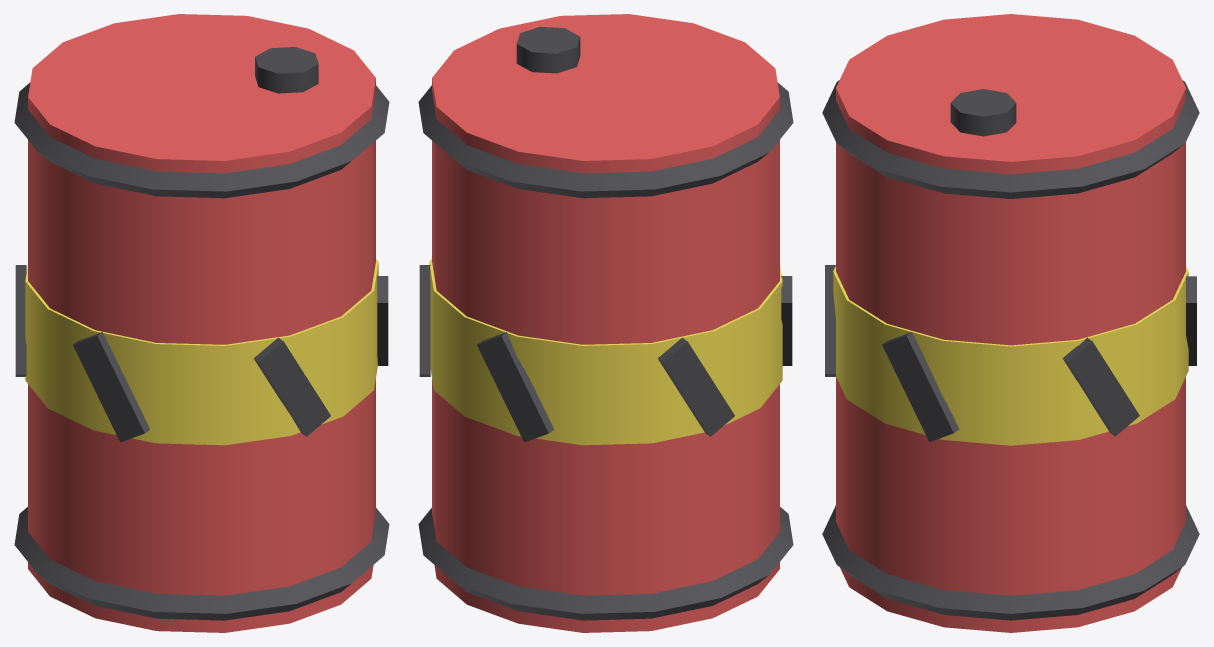
The model's file is sb_explosive_barrel.glb.
The picture shows the model from 3 angles, left to right: view 1: azimuth 30°, elevation 25°; view 2: azimuth 150°, elevation 25°; view 3: azimuth 270°, elevation 25°; orthographic projection.
Visible parts, largest first — view 1: sb_explosive_barrel; view 2: sb_explosive_barrel; view 3: sb_explosive_barrel.
Boxes of the visible parts, x1,y1,x2,y2 form: sb_explosive_barrel: [14, 14, 389, 632]; sb_explosive_barrel: [418, 14, 793, 632]; sb_explosive_barrel: [822, 14, 1199, 632].
Size of the model in its own units: 0.69 by 0.99 by 0.69.
